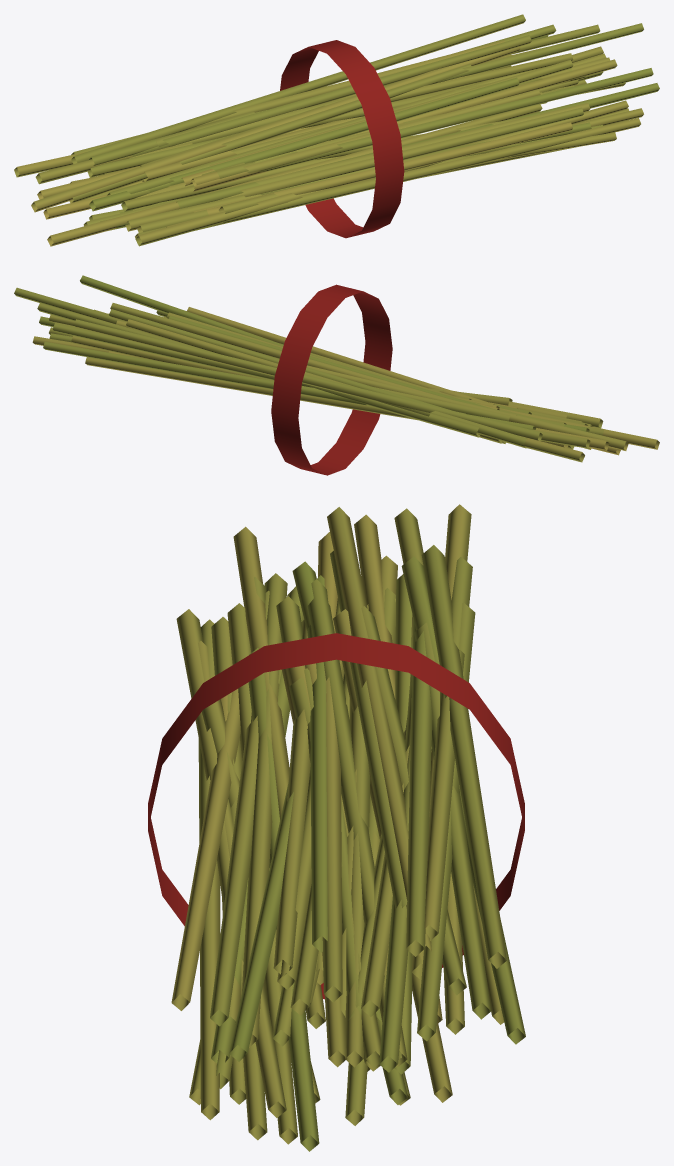
Rendered from Hay.glb.
3 renders of one model, top to bottom at view 1: azimuth 30°, elevation 25°; view 2: azimuth 150°, elevation 25°; view 3: azimuth 270°, elevation 25°, orthographic. The views are drawn at different scales.
Visible parts, largest first — view 1: Straw, Twine; view 2: Straw, Twine; view 3: Straw, Twine.
Boxes of the visible parts, x1,y1,x2,y2 form: Straw: (14,14,659,246); Twine: (280,40,404,238); Straw: (14,275,659,462); Twine: (271,284,392,475); Straw: (171,504,525,1151); Twine: (148,633,524,999).
Bounding box in the file's own units: 0.267 × 0.072 × 0.0722.
